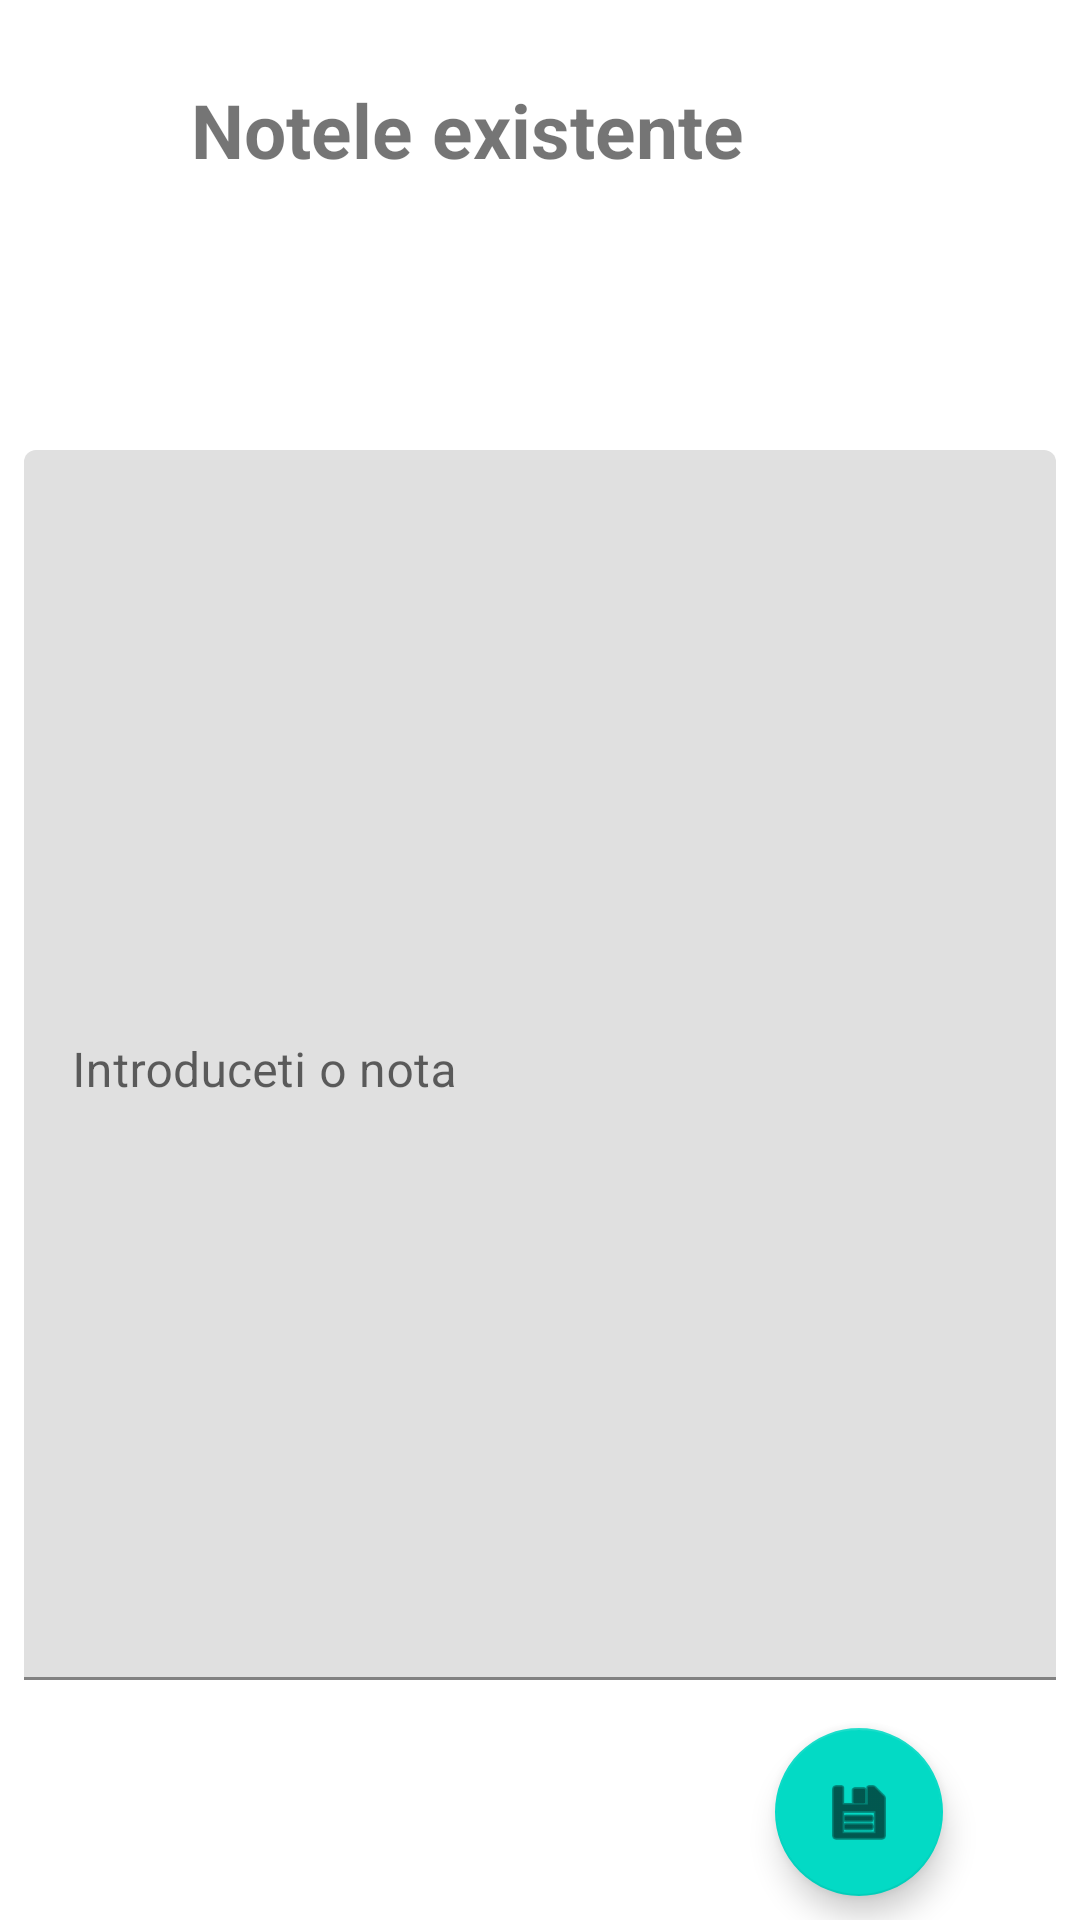

Point at icon controls on the screen. Image size 1080x1920, points as (x,y).
Salvare Nota: (859,1812)
